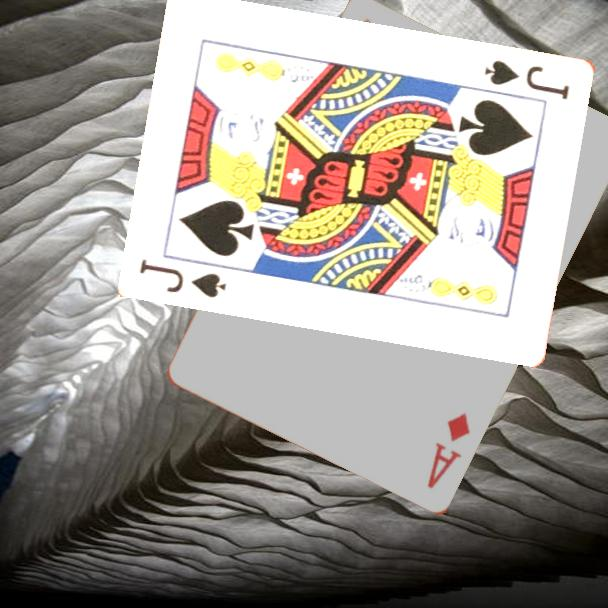d01: (424, 409, 474, 492)
s11: (481, 56, 573, 102), (136, 255, 230, 300)
